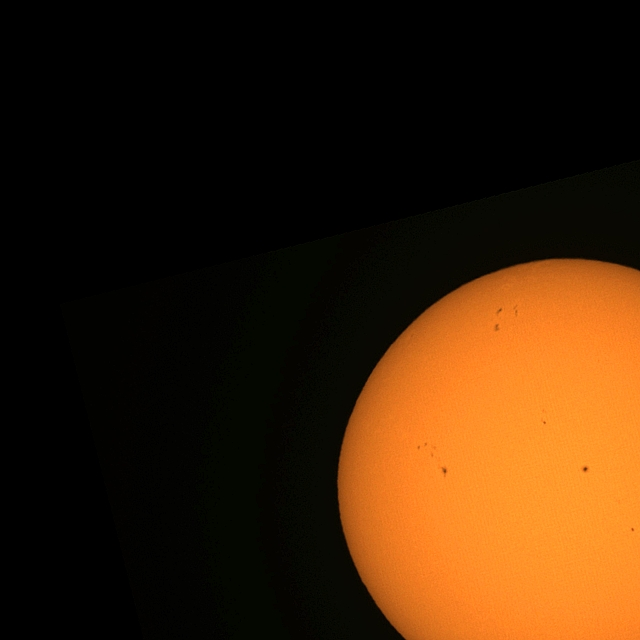sunspot: (417, 442, 438, 458), (439, 466, 448, 477), (417, 442, 426, 450), (513, 305, 519, 317), (581, 465, 589, 473), (494, 323, 500, 332), (496, 308, 502, 315), (542, 420, 548, 426), (630, 526, 636, 532)
